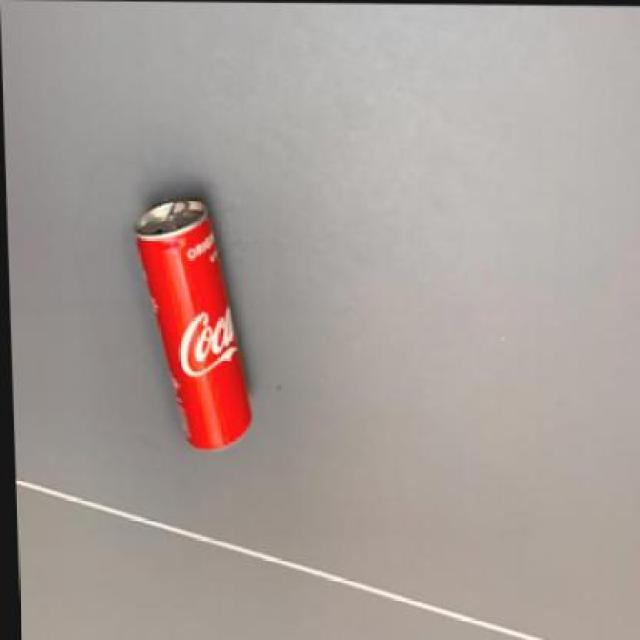Metal: (132, 193, 255, 459)
